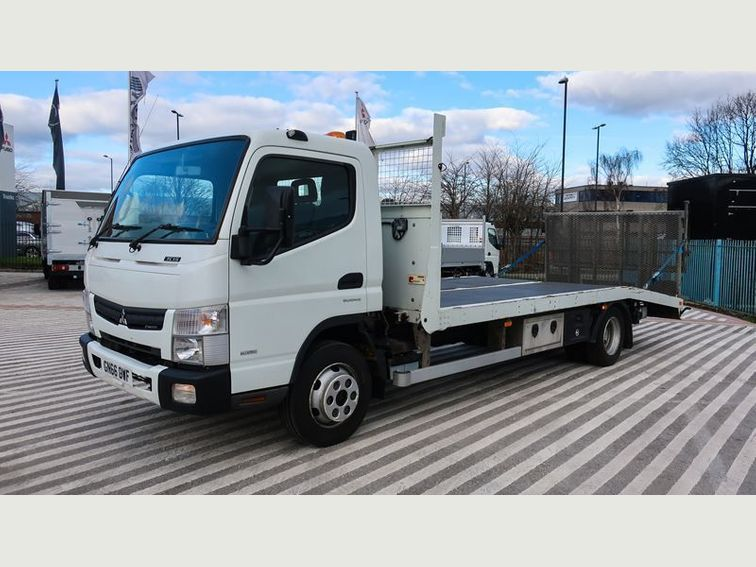Semi: (77, 131, 681, 446)
